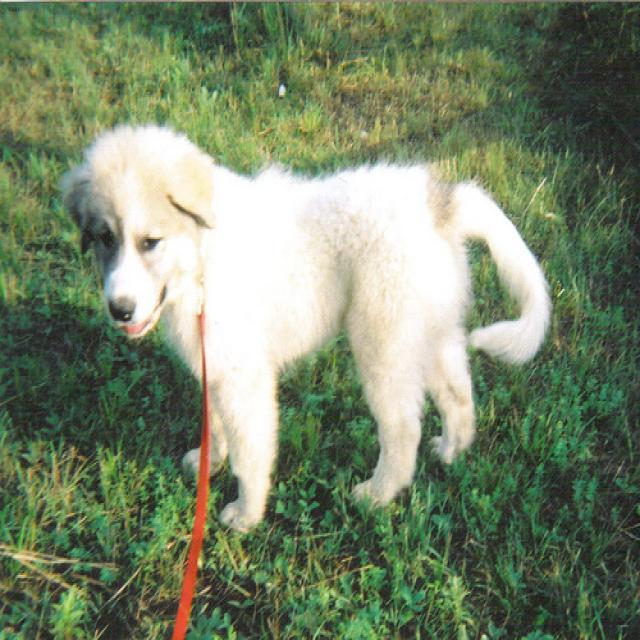dog-great_pyrenees: (50, 112, 557, 545)
